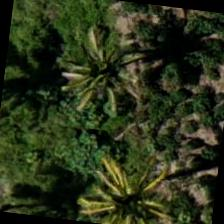Kelapa_Sawit: (51, 30, 151, 130), (84, 153, 183, 223)
